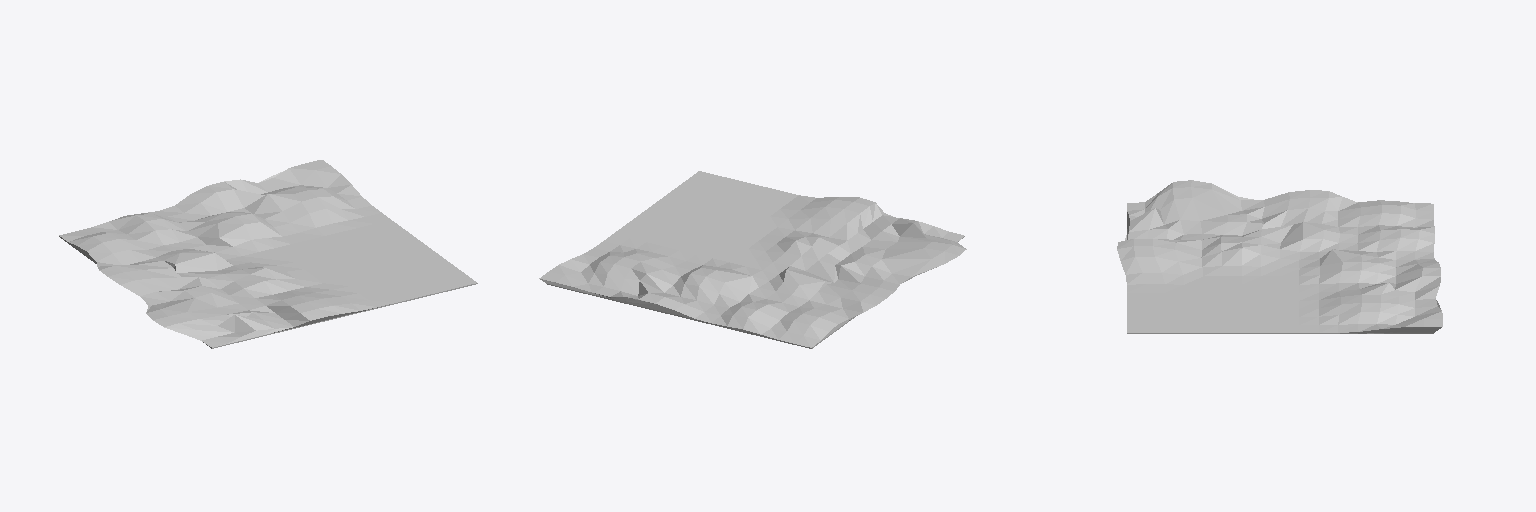
The model's file is sandDunes.obj.
3 views of the same model, side by side, from view 1: azimuth 30°, elevation 25°; view 2: azimuth 150°, elevation 25°; view 3: azimuth 270°, elevation 25° (orthographic).
Visible parts, largest first — view 1: Cube_Cube.001; view 2: Cube_Cube.001; view 3: Cube_Cube.001.
Part boxes in pixels (bbox=[...]): Cube_Cube.001: bbox=[59, 160, 477, 348]; Cube_Cube.001: bbox=[539, 171, 966, 348]; Cube_Cube.001: bbox=[1117, 180, 1442, 333].
Size of the model in its own units: 444 by 21.6 by 425.